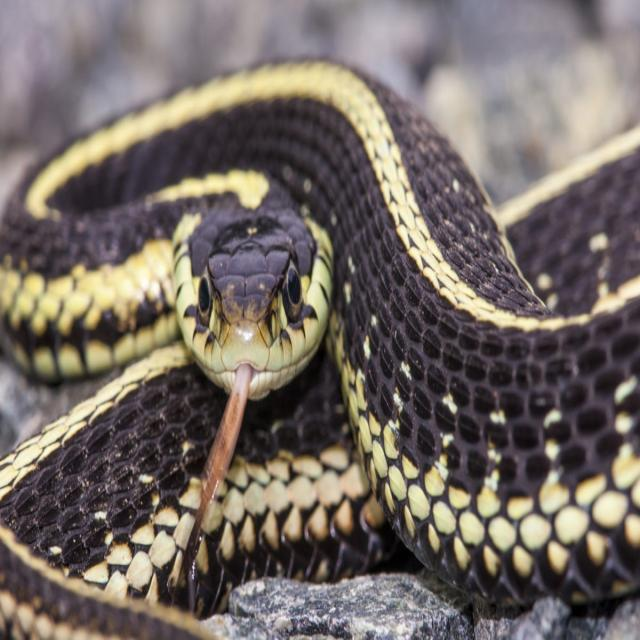Snake: (8, 49, 640, 616)
